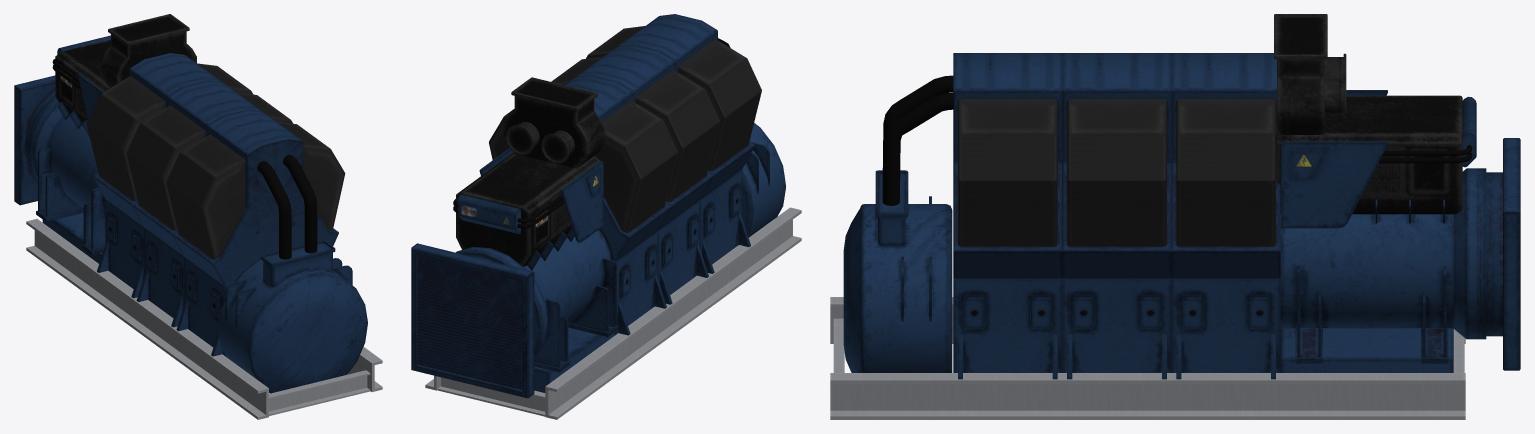
3 views of the same model, side by side, from view 1: azimuth 30°, elevation 25°; view 2: azimuth 150°, elevation 25°; view 3: azimuth 270°, elevation 25° (orthographic). The views are drawn at different scales.
Visible parts, largest first — view 1: SM_BigGen; view 2: SM_BigGen; view 3: SM_BigGen.
Part boxes in pixels (box(x1,y1,x2,y2)): SM_BigGen: box(14, 14, 382, 419); SM_BigGen: box(411, 14, 801, 419); SM_BigGen: box(830, 14, 1520, 419).
Size of the model in its own units: 155 by 260 by 467.
1 material, 1 textured.
